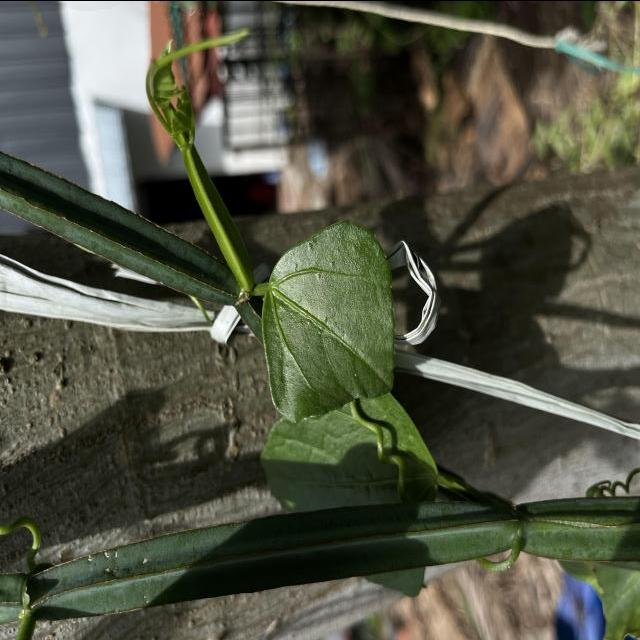Cissus quadrangularis: (258, 216, 398, 426)
